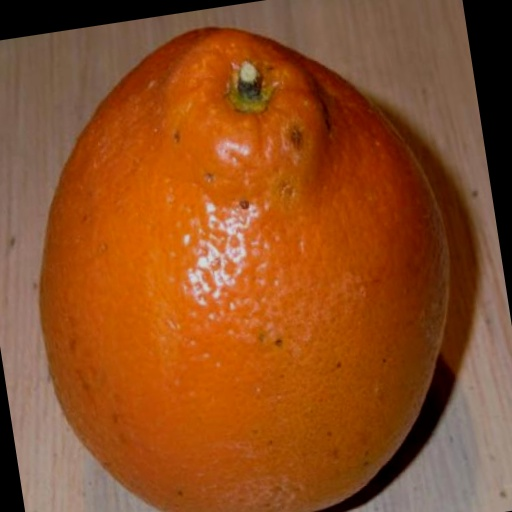fruit: (40, 29, 448, 512)
